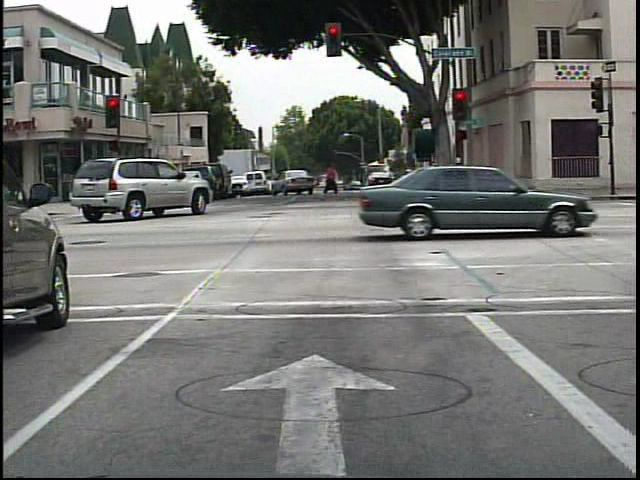person: (317, 157, 346, 203)
